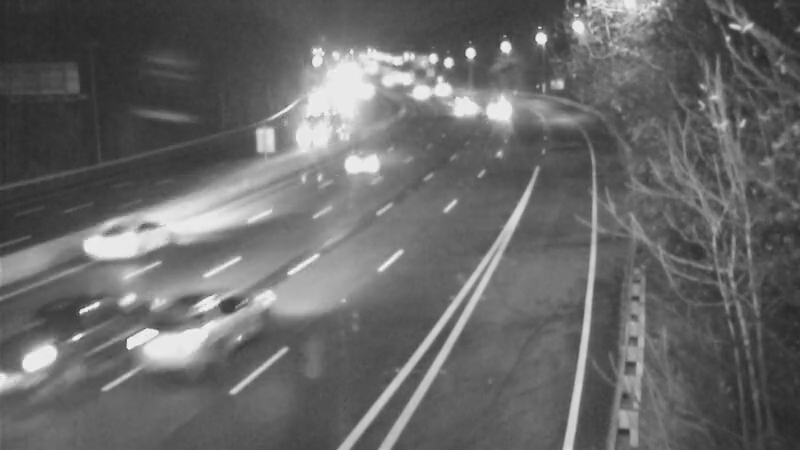vehicle: (118, 290, 228, 400), (1, 302, 97, 412), (323, 123, 403, 203), (72, 206, 152, 286), (420, 64, 470, 114), (393, 65, 443, 115), (427, 75, 477, 125), (467, 88, 517, 138), (438, 85, 488, 135), (284, 109, 334, 159)
